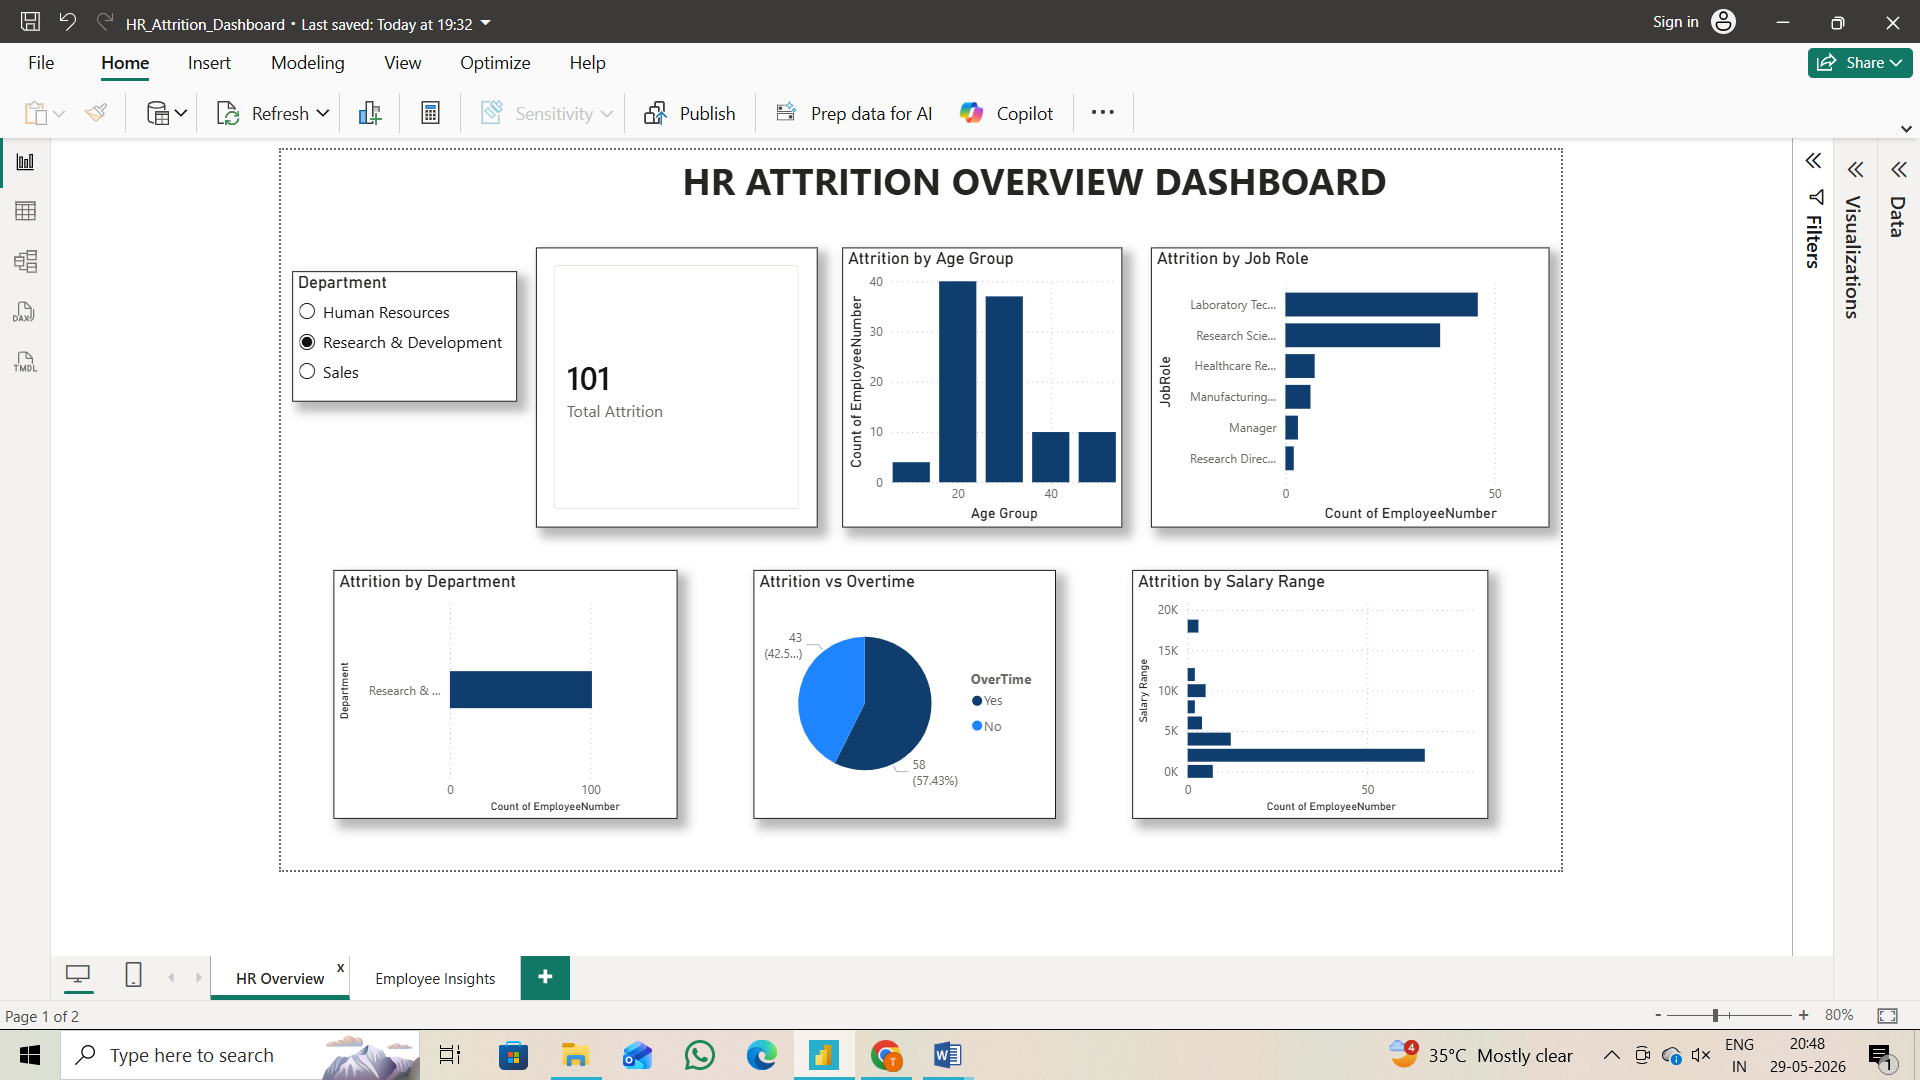

Layout of this report page (visuals, bound fields, positions):
{"tool":"powerbi","page":{"name":"HR Overview","canvas":[1280,720],"ordinal":0},"visuals":[{"type":"cardVisual","fields":{"Data":["CountNonNull(employees.EmployeeNumber)"]},"box":[237.9,79.6,281.1,279.9],"z":0},{"type":"clusteredBarChart","title":"Attrition by Department","fields":{"Category":["employees.Department"],"Y":["CountNonNull(employees.EmployeeNumber)"]},"box":[35,420,343.8,248.8],"z":1000},{"type":"clusteredColumnChart","title":"Attrition by Age Group","fields":{"Category":["employees.ï»¿Age (bins)"],"Y":["CountNonNull(employees.EmployeeNumber)"]},"box":[512.3,88.9,280.3,280.3],"z":2000},{"type":"clusteredBarChart","title":"Attrition by Job Role","fields":{"Category":["employees.JobRole"],"Y":["CountNonNull(employees.EmployeeNumber)"]},"box":[867.6,88.9,412.4,300.5],"z":3000},{"type":"pieChart","title":"Attrition vs Overtime","fields":{"Category":["employees.OverTime"],"Y":["CountNonNull(employees.EmployeeNumber)"]},"box":[430,420,308.8,291.2],"z":4000},{"type":"clusteredBarChart","title":"Attrition by Salary Range","fields":{"Y":["CountNonNull(employees.EmployeeNumber)"],"Category":["employees.MonthlyIncome (bins)"]},"box":[803.8,420,357.5,281.2],"z":5000},{"type":"textbox","box":[395.7,0,872.3,89.3],"z":6000},{"type":"listSlicer","fields":{"Values":["employees.Department"]},"box":[10.9,126.7,243.7,133.9],"z":7000}]}

Visuals, with their boxes on the page's 1280x720 design canvas (x1, y1, x2, y2). These are canvas units, not pixel positions in the 1920x1080 screenshot, which may show the page scaled, cropped or inside an application window:
cardVisual - CountNonNull(employees.EmployeeNumber): select_region(238, 80, 519, 360)
"Attrition by Department" clusteredBarChart: select_region(35, 420, 379, 669)
"Attrition by Age Group" clusteredColumnChart: select_region(512, 89, 793, 369)
"Attrition by Job Role" clusteredBarChart: select_region(868, 89, 1280, 389)
"Attrition vs Overtime" pieChart: select_region(430, 420, 739, 711)
"Attrition by Salary Range" clusteredBarChart: select_region(804, 420, 1161, 701)
textbox: select_region(396, 0, 1268, 89)
listSlicer - employees.Department: select_region(11, 127, 255, 261)
